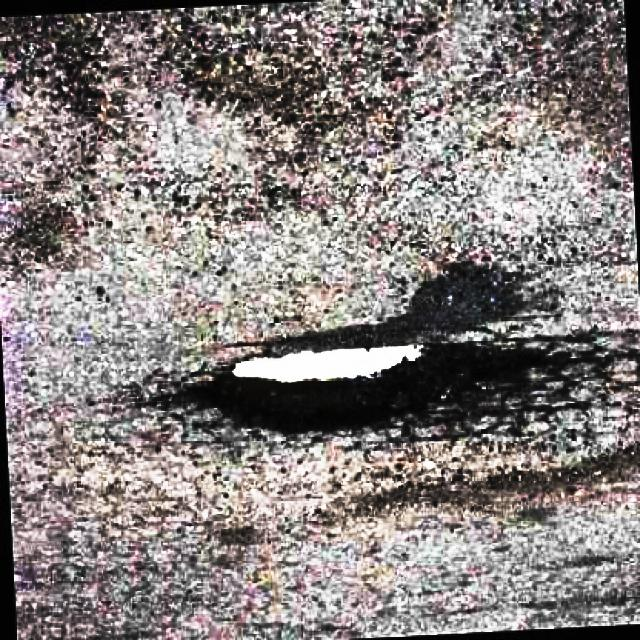pothole: (195, 329, 554, 445)
